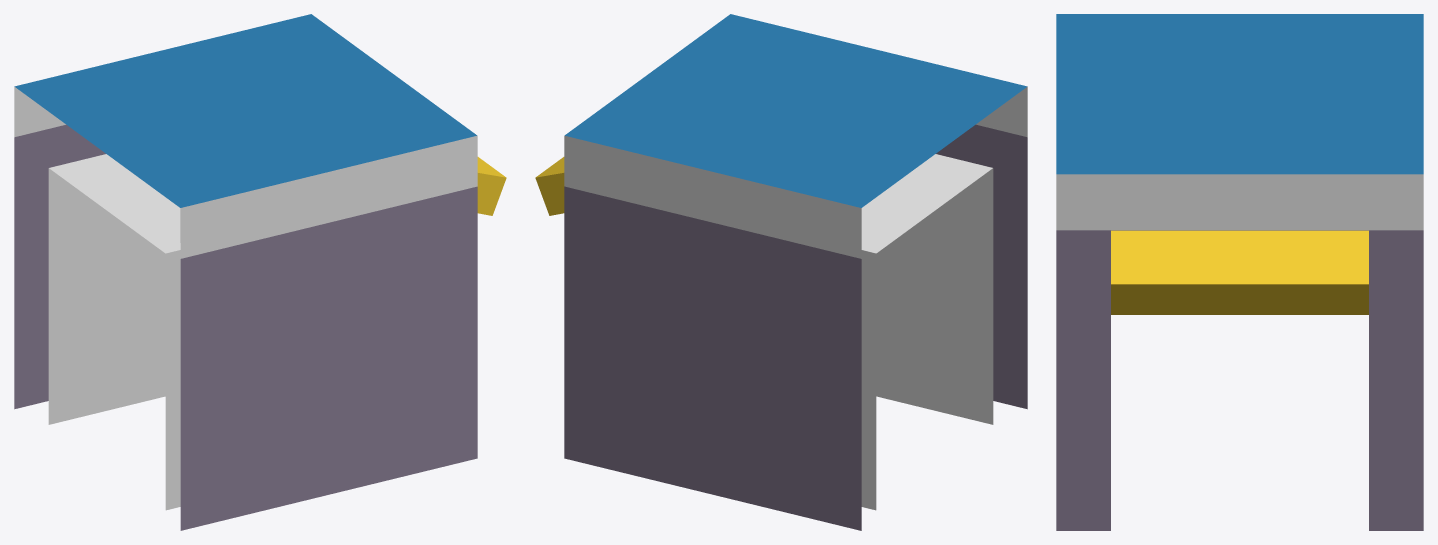
File: house01_upgrade_s02.FBX
The picture shows the model from 3 angles, left to right: view 1: azimuth 30°, elevation 25°; view 2: azimuth 150°, elevation 25°; view 3: azimuth 270°, elevation 25°; orthographic projection. The views are drawn at different scales.
Visible parts, largest first — view 1: house01_upgrade_s02; view 2: house01_upgrade_s02; view 3: house01_upgrade_s02.
Part boxes in pixels (<box>): house01_upgrade_s02: <box>14,14,506,530</box>; house01_upgrade_s02: <box>535,14,1027,530</box>; house01_upgrade_s02: <box>1056,14,1423,530</box>.
Size of the model in its own units: 290 by 238 by 255.
Materials: 1 (1 with a texture image).
